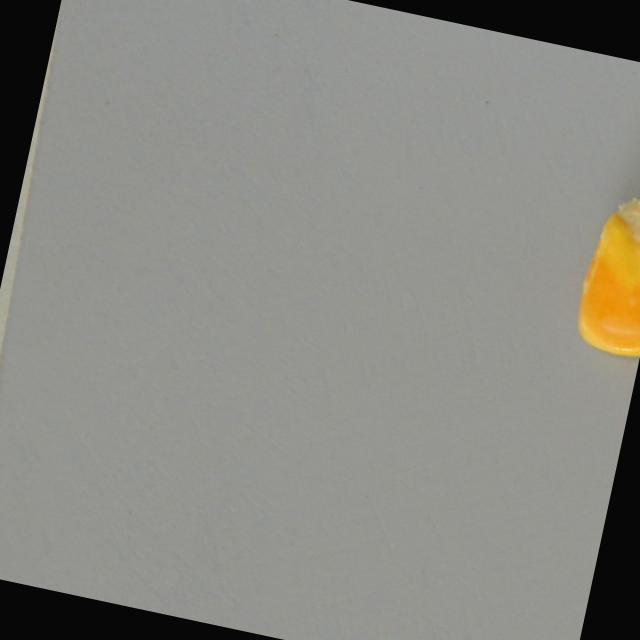entero: (563, 181, 640, 362)
